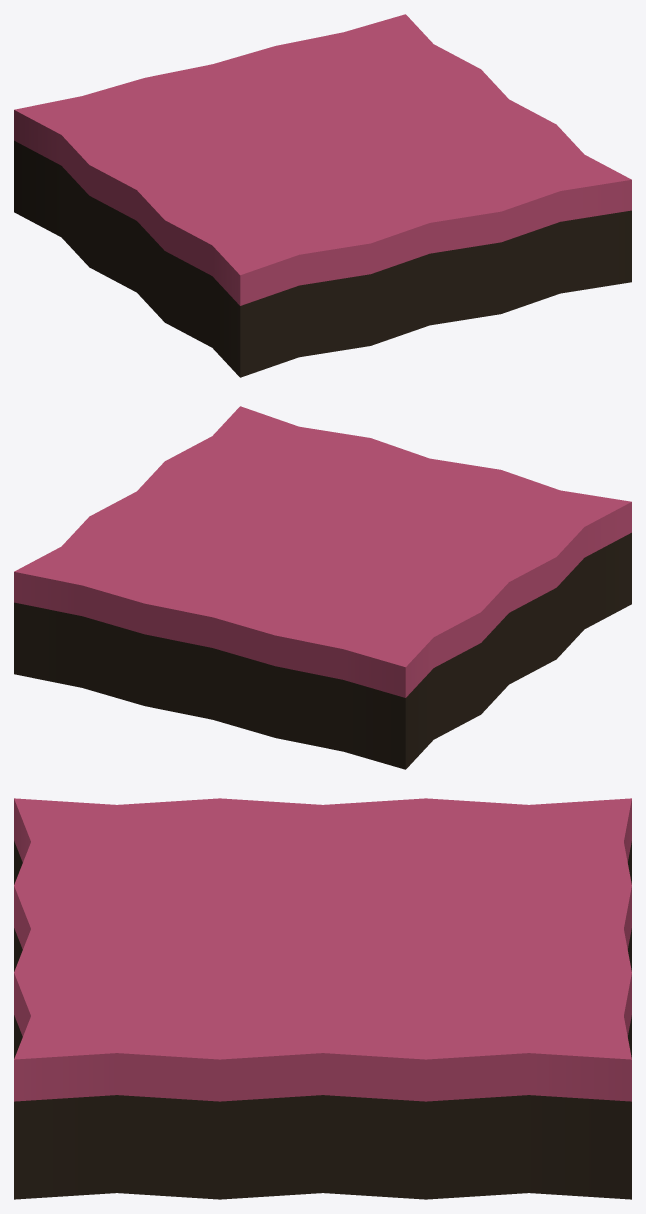
Rendered from jaggeredTile-21a_col_001.fbx.
3 renders of one model, top to bottom at view 1: azimuth 30°, elevation 25°; view 2: azimuth 150°, elevation 25°; view 3: azimuth 270°, elevation 25°, orthographic. The views are drawn at different scales.
Visible parts, largest first — view 1: jaggeredTile-21a.col.001; view 2: jaggeredTile-21a.col.001; view 3: jaggeredTile-21a.col.001.
Boxes of the visible parts, <box> form: jaggeredTile-21a.col.001: <box>14,14,631,377</box>; jaggeredTile-21a.col.001: <box>14,406,631,769</box>; jaggeredTile-21a.col.001: <box>14,798,631,1199</box>.
Bounding box in the file's own units: 2 × 0.5 × 2.
1 material, 1 textured.
